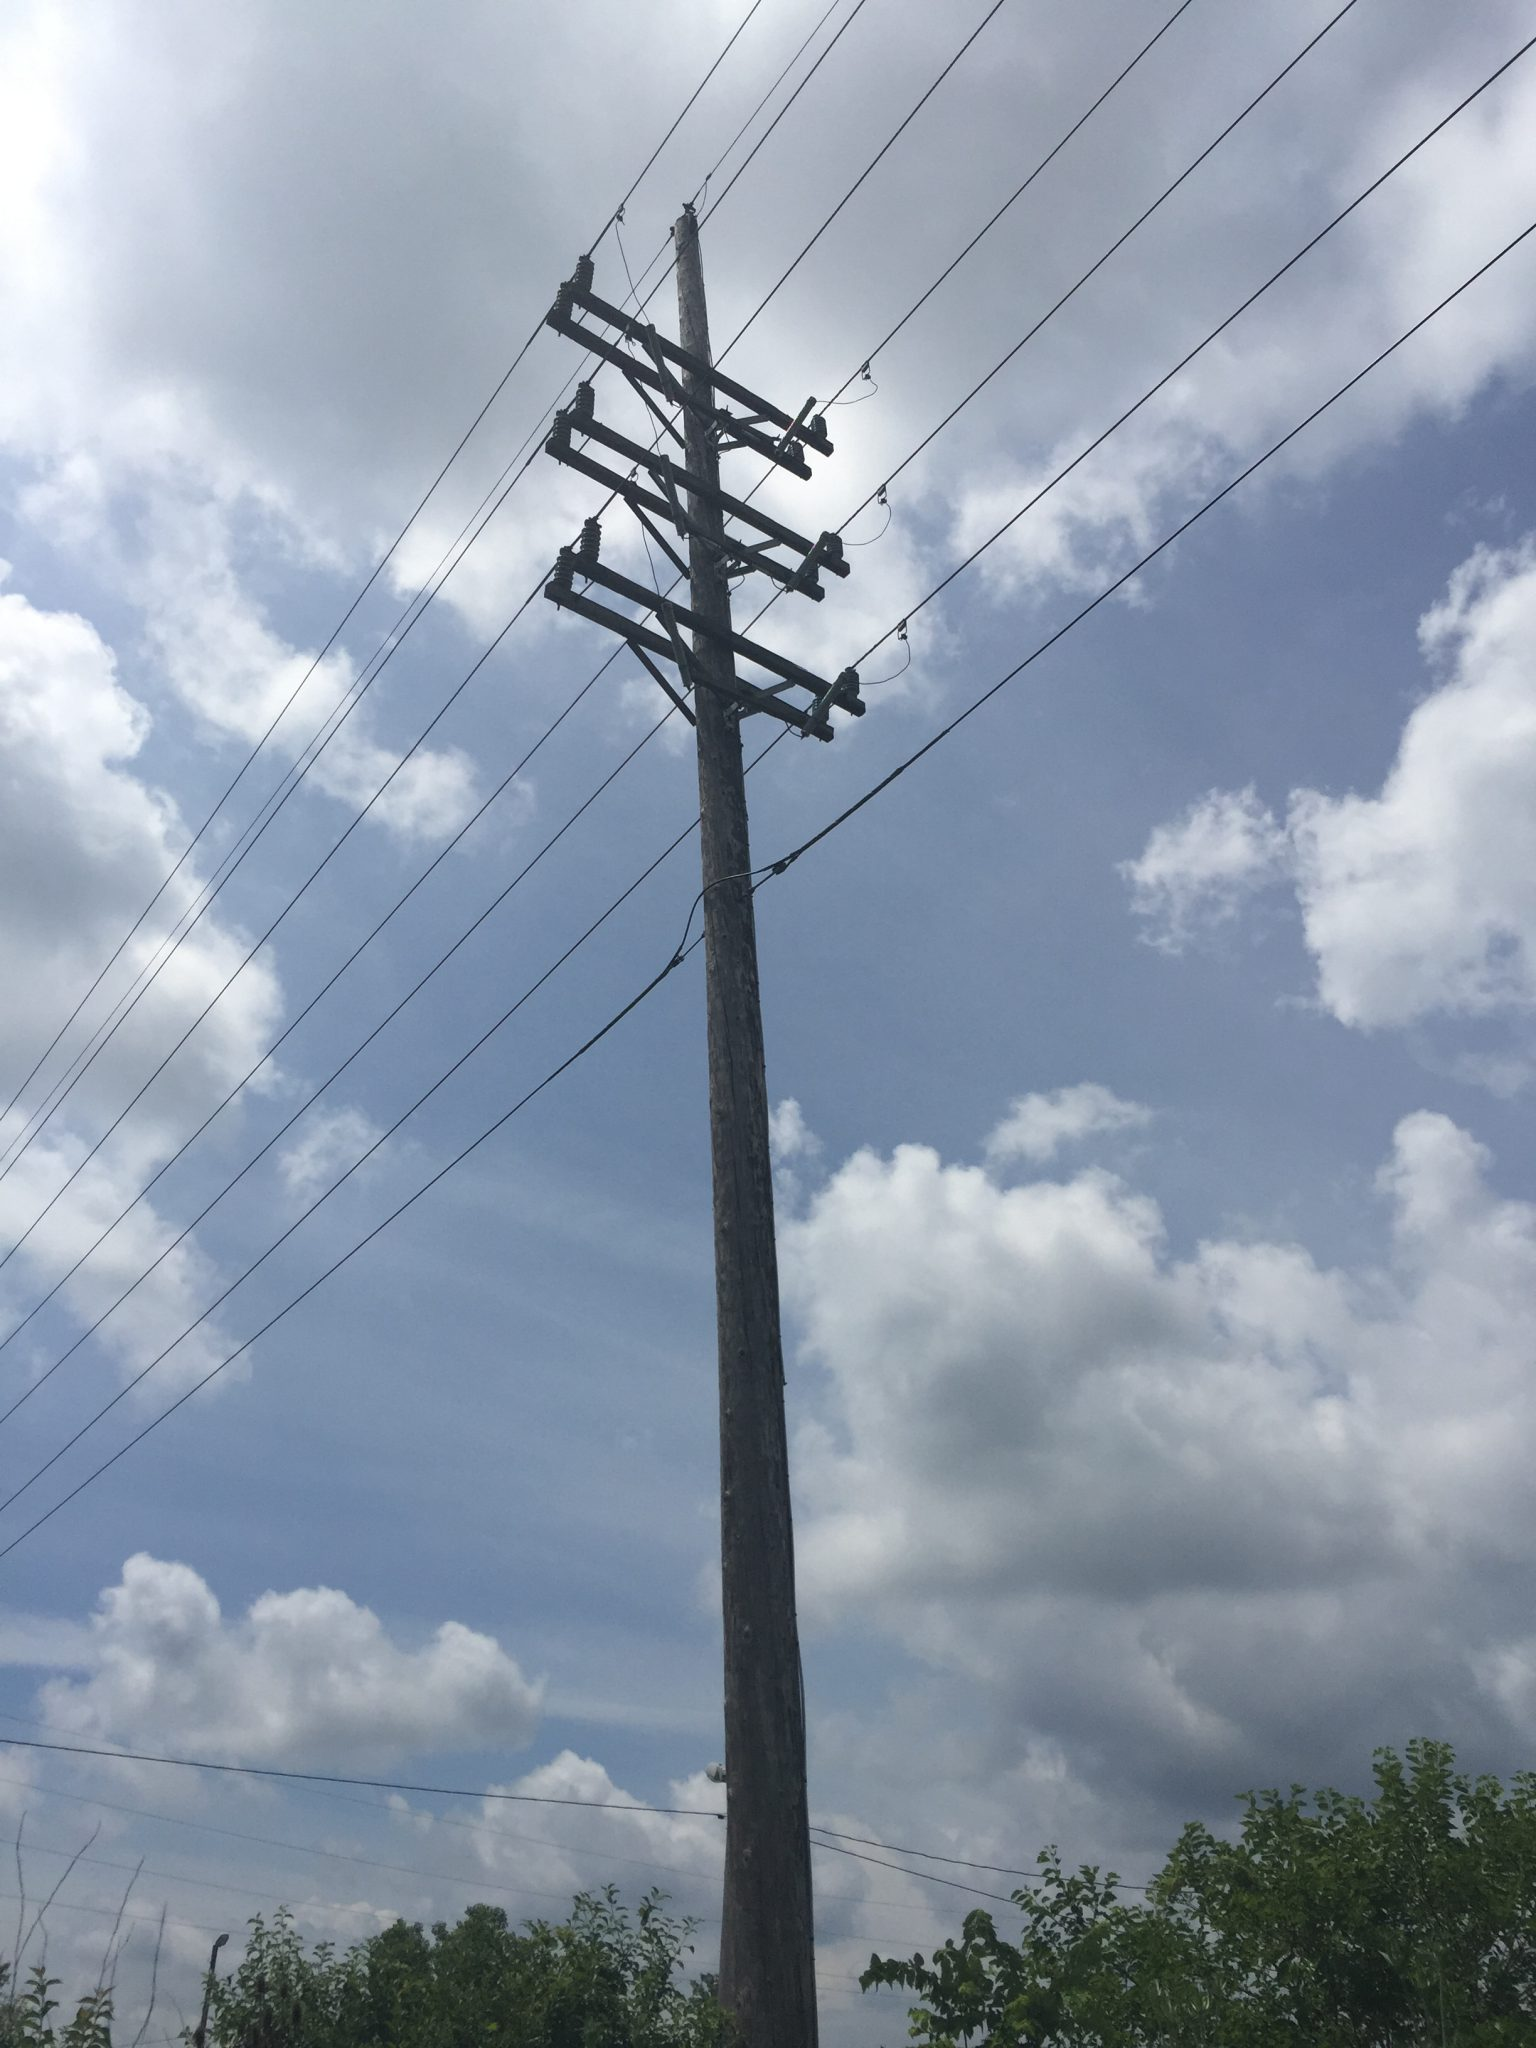utility_pole: (511, 173, 921, 840)
